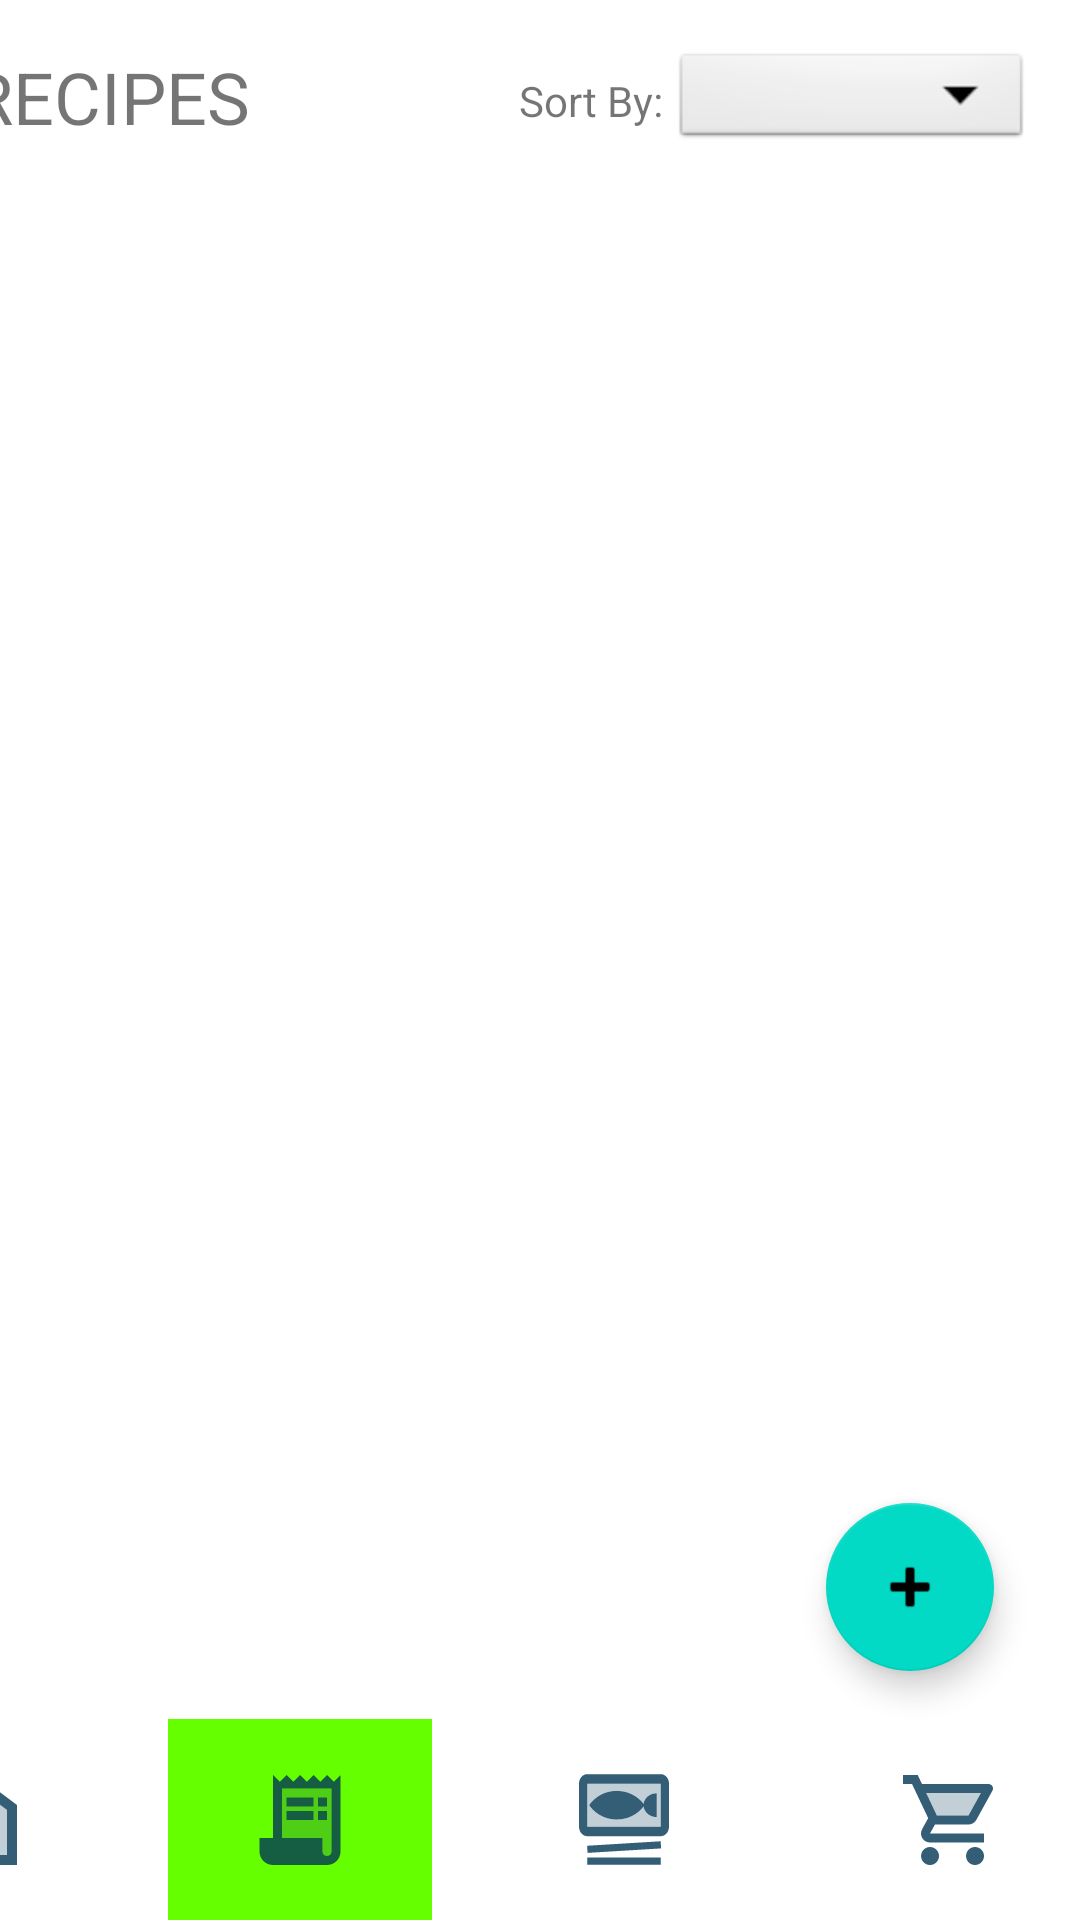

Named icons in this screenshot (1080px×1920px) and their bounding boxes, (x1, y1, x2, y2):
Add Food Button: (826, 1503, 994, 1671)
Go To Recipes: (168, 1719, 432, 1920)
Go To Shopping List: (903, 1775, 993, 1865)
